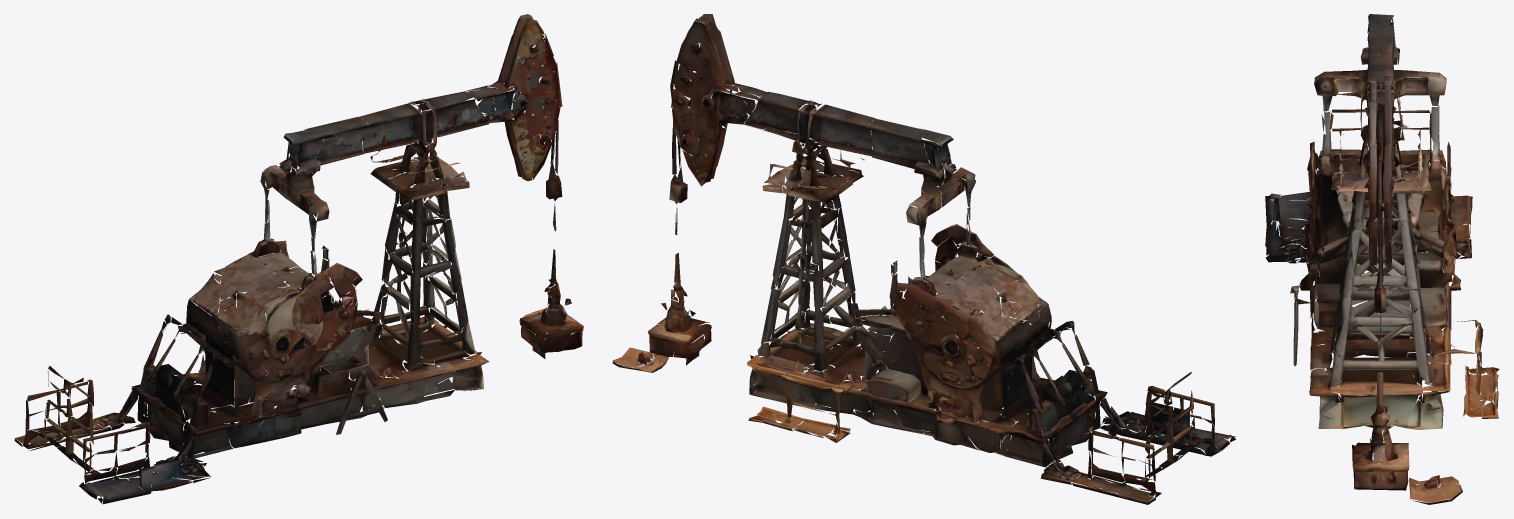
File: pumpjack.glb
3 renders of one model, left to right at view 1: azimuth 30°, elevation 25°; view 2: azimuth 150°, elevation 25°; view 3: azimuth 270°, elevation 25°, orthographic. The views are drawn at different scales.
Parts seen in each view (by area): view 1: tripo_node_f27acd59-7645-4361-8fce-c9d777e17720; view 2: tripo_node_f27acd59-7645-4361-8fce-c9d777e17720; view 3: tripo_node_f27acd59-7645-4361-8fce-c9d777e17720.
Boxes of the visible parts, x1,y1,x2,y2 form: tripo_node_f27acd59-7645-4361-8fce-c9d777e17720: (14, 14, 583, 504); tripo_node_f27acd59-7645-4361-8fce-c9d777e17720: (612, 14, 1235, 504); tripo_node_f27acd59-7645-4361-8fce-c9d777e17720: (1265, 14, 1499, 504).
Bounding box in the file's own units: 0.9984 × 0.6074 × 0.3229.
Materials: 1 (1 with a texture image).
